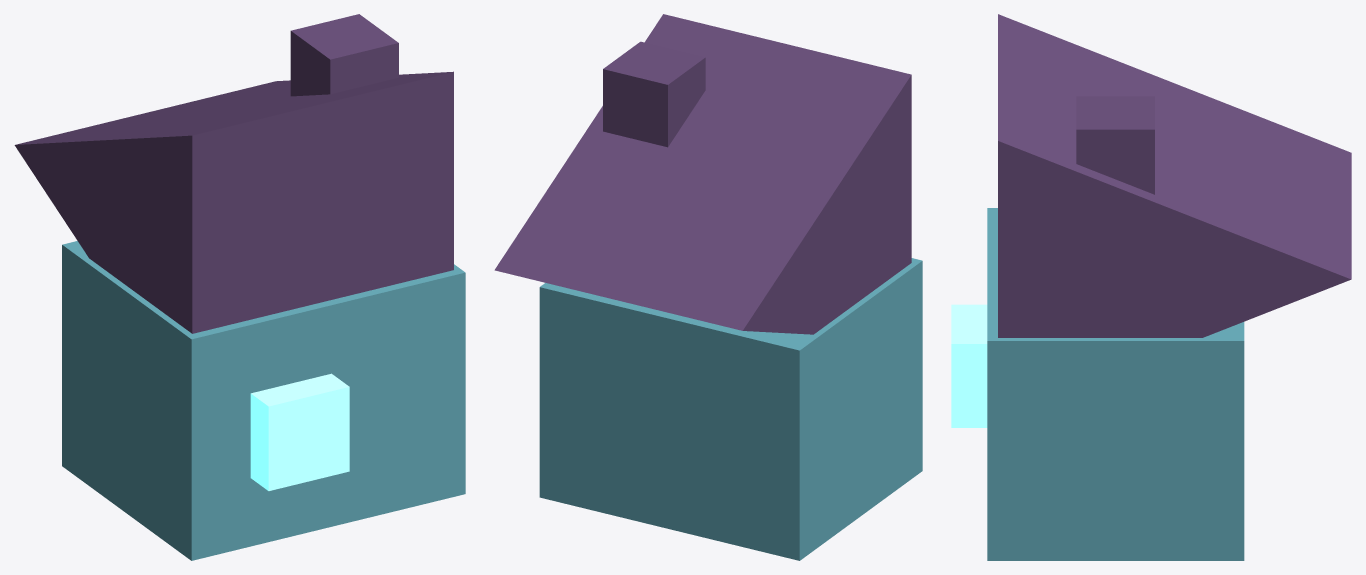
The model's file is hut.glb.
3 renders of one model, left to right at view 1: azimuth 30°, elevation 25°; view 2: azimuth 150°, elevation 25°; view 3: azimuth 270°, elevation 25°, orthographic. The views are drawn at different scales.
Visible parts, largest first — view 1: Walls, Roof, Window, Chimney; view 2: Roof, Walls, Chimney; view 3: Roof, Walls, Chimney, Window.
Boxes of the visible parts, x1,y1,x2,y2 form: Walls: (62,241,465,560); Roof: (14,71,453,333); Window: (250,373,349,490); Chimney: (290,14,398,96); Roof: (494,14,911,334); Walls: (539,258,922,560); Chimney: (603,41,705,147); Roof: (998,14,1351,337); Walls: (987,208,1244,560); Chimney: (1076,96,1154,194); Window: (951,304,987,427).
Size of the model in its own units: 0.44 by 0.65 by 0.56.
